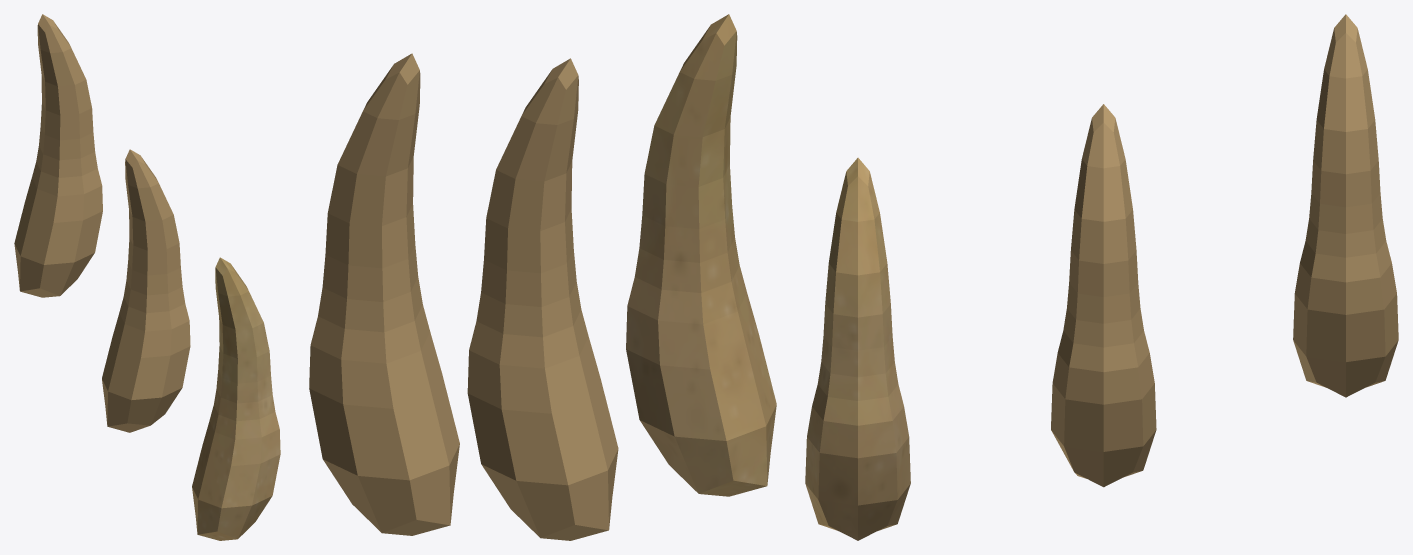
Rendered from big bones.fbx.
3 views of the same model, side by side, from view 1: azimuth 30°, elevation 25°; view 2: azimuth 150°, elevation 25°; view 3: azimuth 270°, elevation 25° (orthographic). The views are drawn at different scales.
Visible parts, largest first — view 1: bones.003, bones.005, bones.004; view 2: bones.003, bones.004, bones.005; view 3: bones.003, bones.005, bones.004.
Boxes of the visible parts, bbox=[...] form: bones.003: bbox=[14, 14, 102, 297]; bones.005: bbox=[192, 257, 280, 540]; bones.004: bbox=[102, 149, 190, 432]; bones.003: bbox=[309, 53, 459, 535]; bones.004: bbox=[467, 58, 618, 540]; bones.005: bbox=[626, 14, 776, 496]; bones.003: bbox=[1293, 14, 1398, 397]; bones.005: bbox=[805, 157, 910, 540]; bones.004: bbox=[1051, 104, 1156, 487].
Size of the model in its own units: 134 by 618 by 631.
